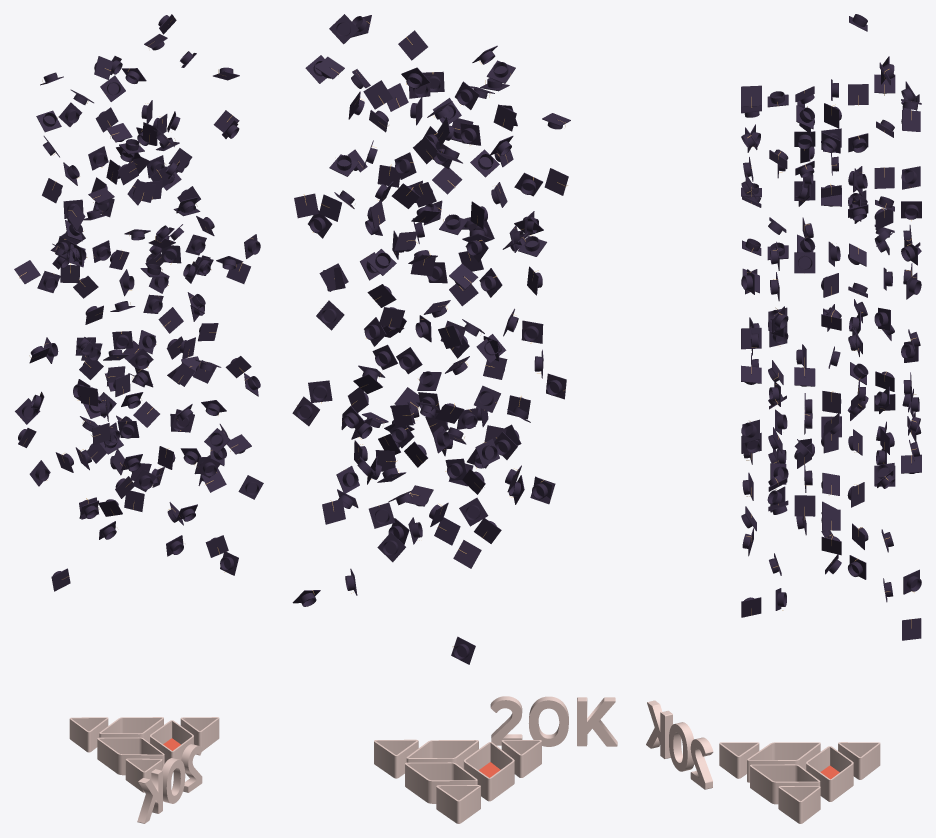
Rendered from blender-threejs-journey-20k.glb.
The picture shows the model from 3 angles, left to right: view 1: azimuth 30°, elevation 25°; view 2: azimuth 150°, elevation 25°; view 3: azimuth 270°, elevation 25°; orthographic projection. The views are drawn at different scales.
Parts seen in each view (by area): view 1: boxBase, Text; view 2: boxBase, Text; view 3: boxBase, Text.
Boxes of the visible parts, x1,y1,x2,y2 form: boxBase: (69,717,219,792); Text: (137,744,202,823); boxBase: (374,739,541,823); Text: (490,696,617,746); boxBase: (719,742,880,823); Text: (646,700,713,789).
Size of what is drawn, in the model's own units: 9.14 by 35.33 by 11.69.
